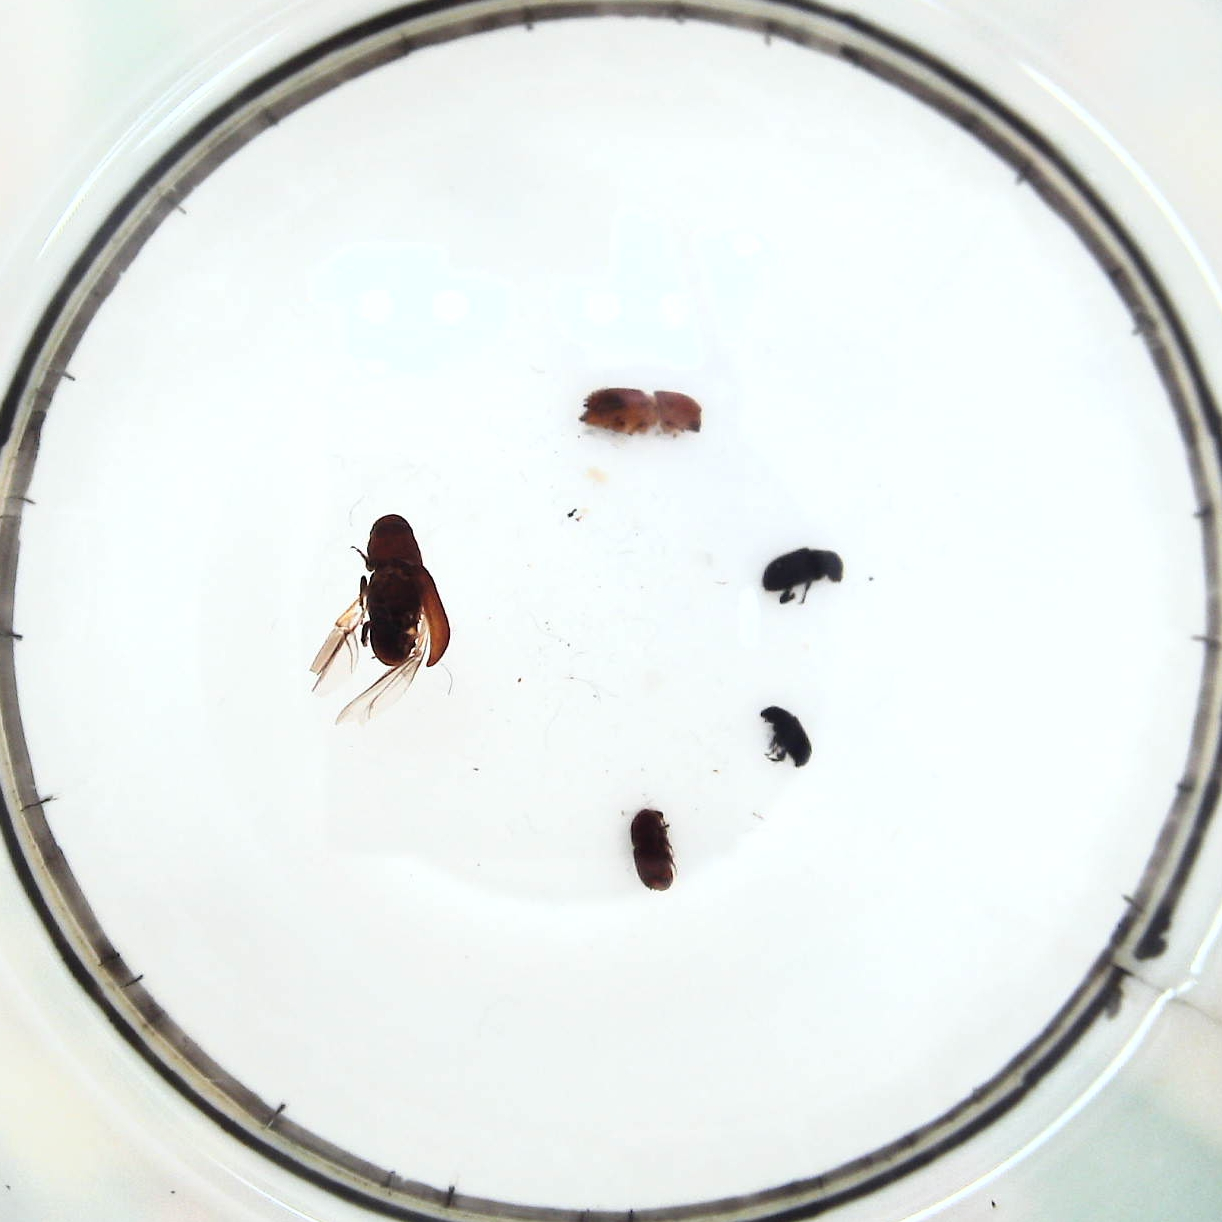Boerner: (577, 385, 704, 443)
Leconte: (314, 515, 450, 713)
Linnaeus: (626, 806, 680, 892)
armandi: (764, 545, 846, 604)
coleoptera: (758, 703, 816, 773)
